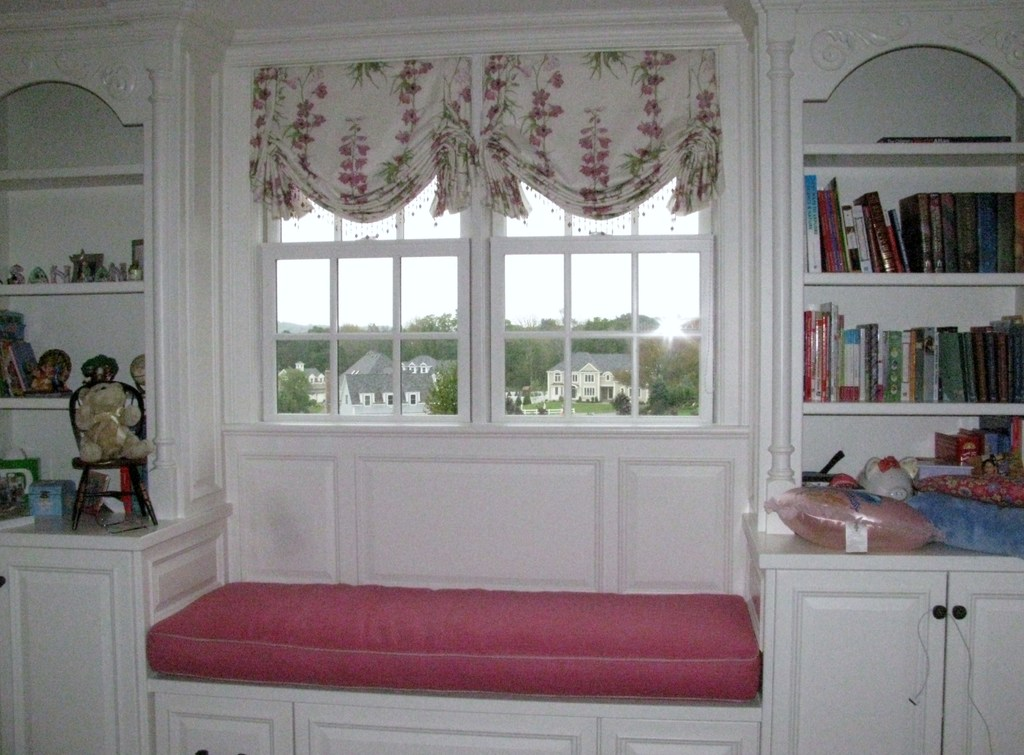cabinet door: (776, 575, 946, 749), (9, 553, 142, 752), (297, 707, 590, 755), (950, 570, 1024, 749), (162, 702, 294, 755), (601, 721, 755, 755)
handle: (923, 596, 948, 631), (950, 598, 972, 628)
